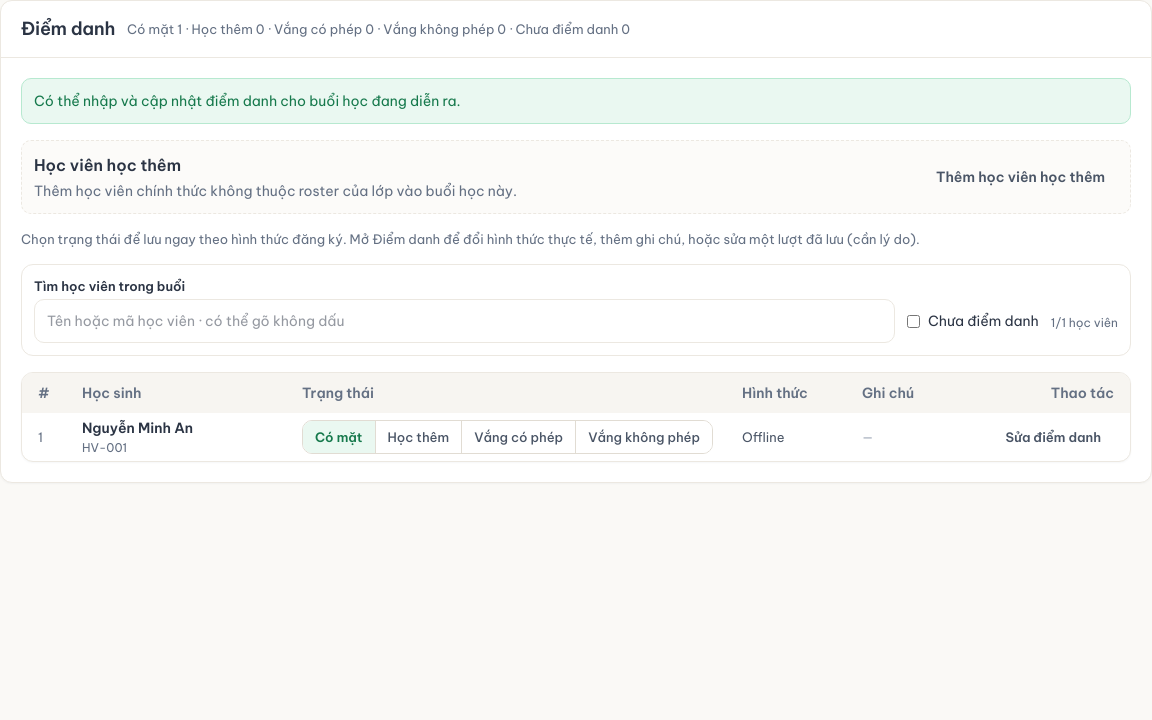
Test case: Attendance status group and bulk marking (design 04) › opens the update editor on a marked row with the tapped status preselected
Step 1. Click the button with aria-label "Đổi sang Vắng có phép cho học viên" → (519, 437), box left=462, top=421, right=576, bottom=453
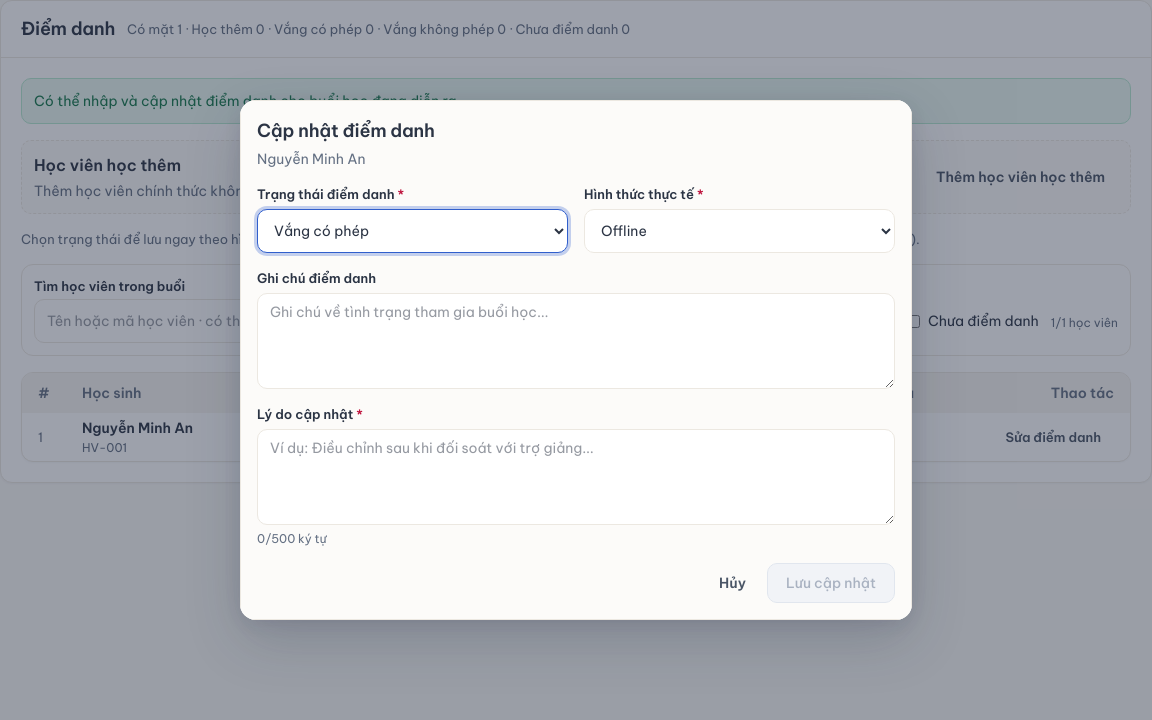
Check: the heading "Cập nhật điểm danh" is shown, box left=257, top=119, right=435, bottom=142
Check: the dropdown labelled "Trạng thái điểm danh *" shows "Vắng có phép", box left=257, top=209, right=568, bottom=253
